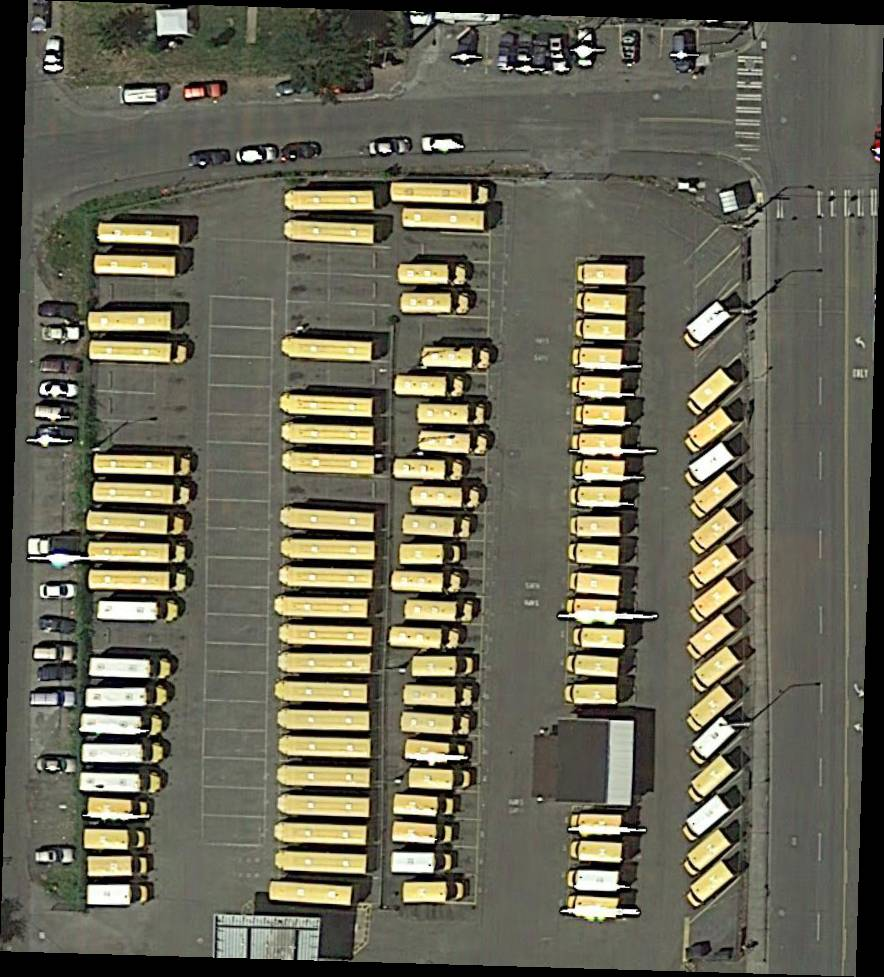large vehicle: (280, 504, 376, 533), (680, 792, 731, 846), (684, 508, 740, 556), (90, 339, 189, 366), (684, 860, 736, 911), (687, 577, 740, 627), (91, 482, 191, 508), (689, 645, 741, 695), (687, 471, 740, 520), (686, 544, 739, 593), (686, 367, 736, 418), (684, 684, 734, 735), (684, 613, 736, 662), (682, 407, 736, 454), (282, 338, 372, 366), (686, 755, 736, 805), (682, 828, 731, 879), (688, 718, 737, 769), (282, 391, 374, 418), (86, 511, 184, 536), (683, 302, 733, 351), (683, 442, 734, 490), (276, 793, 372, 818), (279, 566, 374, 591), (389, 184, 492, 207), (279, 651, 373, 676), (276, 823, 369, 848), (278, 680, 370, 705), (284, 221, 375, 246), (95, 454, 189, 478), (88, 569, 186, 592), (278, 736, 371, 760), (268, 881, 353, 907), (90, 541, 186, 564), (283, 423, 375, 447), (276, 595, 368, 619), (403, 207, 491, 232), (278, 766, 373, 789), (275, 853, 368, 876), (96, 254, 178, 279), (97, 600, 179, 625), (281, 626, 374, 648), (97, 222, 181, 246), (284, 453, 374, 475), (86, 687, 168, 711), (278, 710, 371, 731), (393, 794, 456, 825), (283, 540, 376, 561), (401, 514, 473, 541), (286, 189, 374, 211), (81, 713, 165, 736), (408, 485, 481, 511), (88, 311, 174, 333), (89, 658, 170, 681), (386, 626, 459, 651), (418, 430, 488, 456), (403, 738, 468, 766), (79, 772, 161, 794), (404, 597, 473, 623), (83, 743, 164, 765), (398, 263, 468, 288), (401, 713, 469, 738), (394, 374, 467, 397), (389, 571, 462, 594), (394, 456, 463, 480), (391, 821, 454, 847), (391, 850, 453, 876), (423, 347, 490, 371), (88, 797, 152, 821), (400, 292, 469, 314), (404, 686, 473, 708), (418, 404, 486, 426), (412, 656, 475, 679), (400, 544, 460, 567), (568, 869, 621, 894), (87, 885, 147, 907), (565, 897, 620, 921), (568, 543, 620, 568), (570, 841, 624, 865), (403, 884, 464, 905), (88, 857, 149, 878), (569, 573, 622, 597), (411, 769, 471, 790), (84, 831, 146, 851), (570, 814, 626, 836), (565, 656, 619, 678), (566, 600, 618, 622), (576, 293, 628, 314), (574, 628, 625, 649), (566, 685, 617, 706), (578, 263, 628, 284), (572, 349, 623, 369), (576, 319, 626, 339), (576, 406, 626, 426), (574, 462, 626, 481), (573, 518, 622, 538), (573, 488, 621, 508), (574, 377, 621, 397), (573, 436, 621, 455)
small vehicle: (26, 535, 81, 563), (452, 25, 481, 70), (187, 147, 234, 171), (671, 31, 695, 75), (234, 144, 279, 167), (120, 85, 166, 107), (368, 136, 413, 158), (36, 299, 81, 321), (494, 32, 518, 73), (513, 32, 535, 75), (37, 615, 80, 637), (421, 134, 466, 155), (34, 754, 80, 774), (34, 402, 80, 422), (29, 691, 77, 710), (575, 27, 596, 69), (32, 644, 76, 664), (549, 37, 571, 75), (39, 357, 83, 376), (185, 82, 226, 102), (37, 663, 78, 683), (282, 142, 322, 162), (34, 847, 76, 866), (41, 38, 63, 74), (36, 426, 80, 444), (38, 381, 81, 399), (38, 582, 77, 601), (31, 1, 53, 32), (40, 326, 81, 342), (620, 32, 638, 65), (531, 37, 549, 68)
